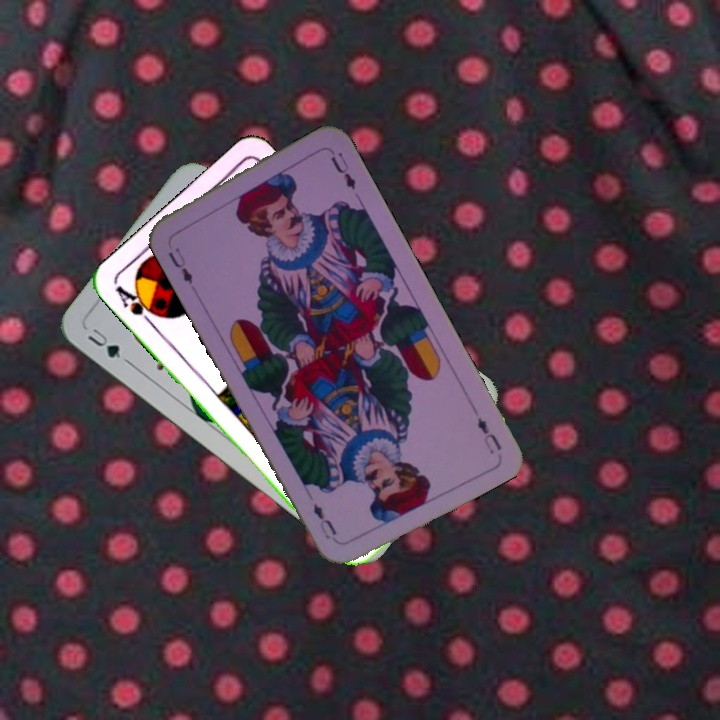EU: (164, 243, 196, 287), (473, 413, 505, 457)
GU: (83, 322, 124, 361)
SA: (111, 281, 164, 330)
